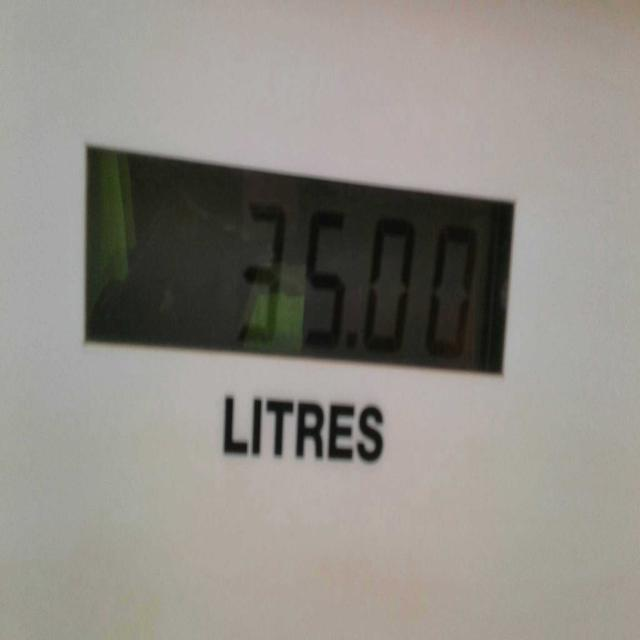.: (340, 322, 363, 366)
0: (421, 213, 480, 359), (362, 210, 414, 352)
3: (235, 186, 289, 364)
5: (298, 205, 345, 354)
